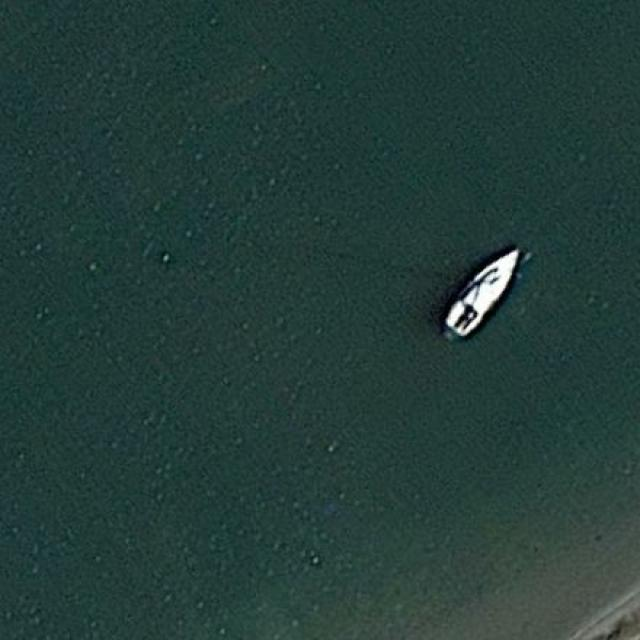ship: (436, 240, 520, 340)
